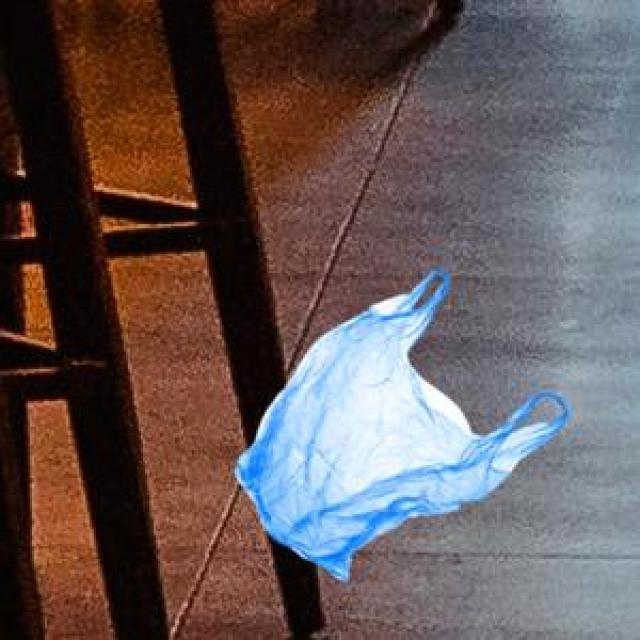Plastic_Bag: (233, 268, 564, 580)
